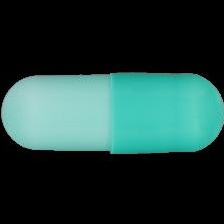0093-3123: (0, 0, 224, 224)
